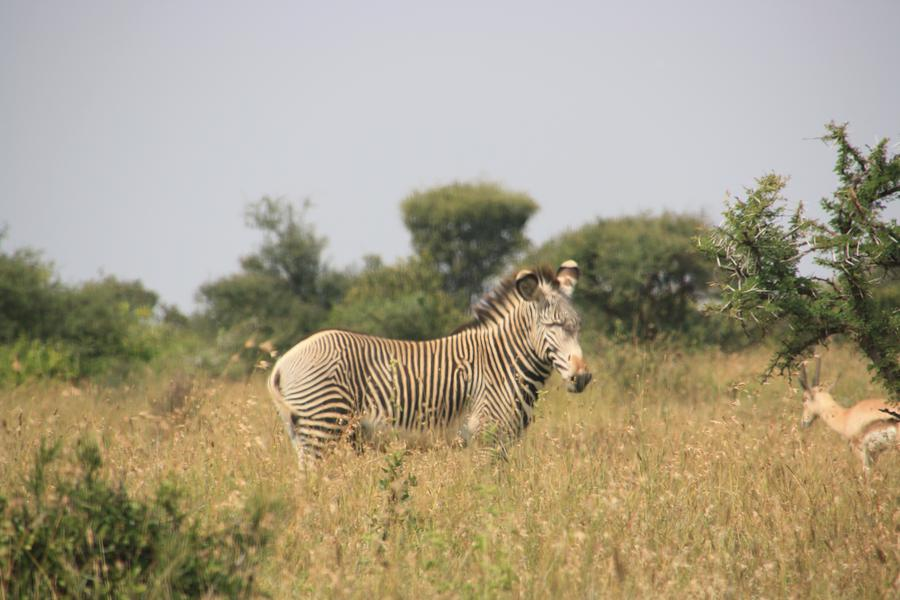zebra_grevys: (274, 324, 519, 431)
